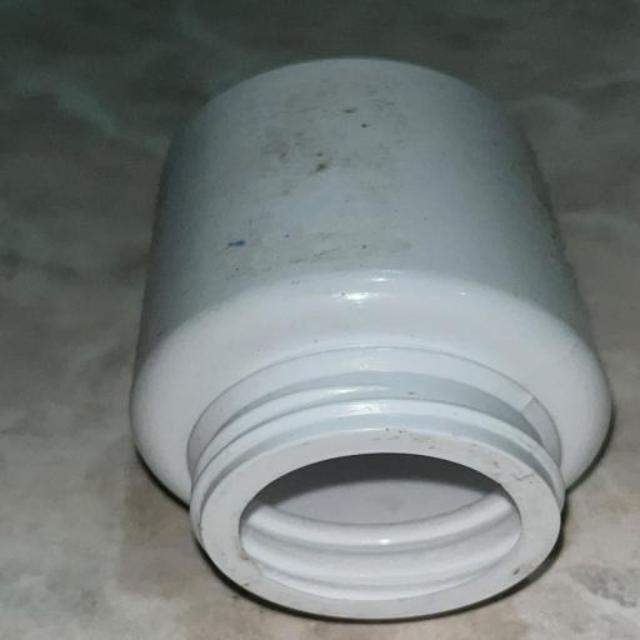HDPE: (113, 50, 604, 615)
